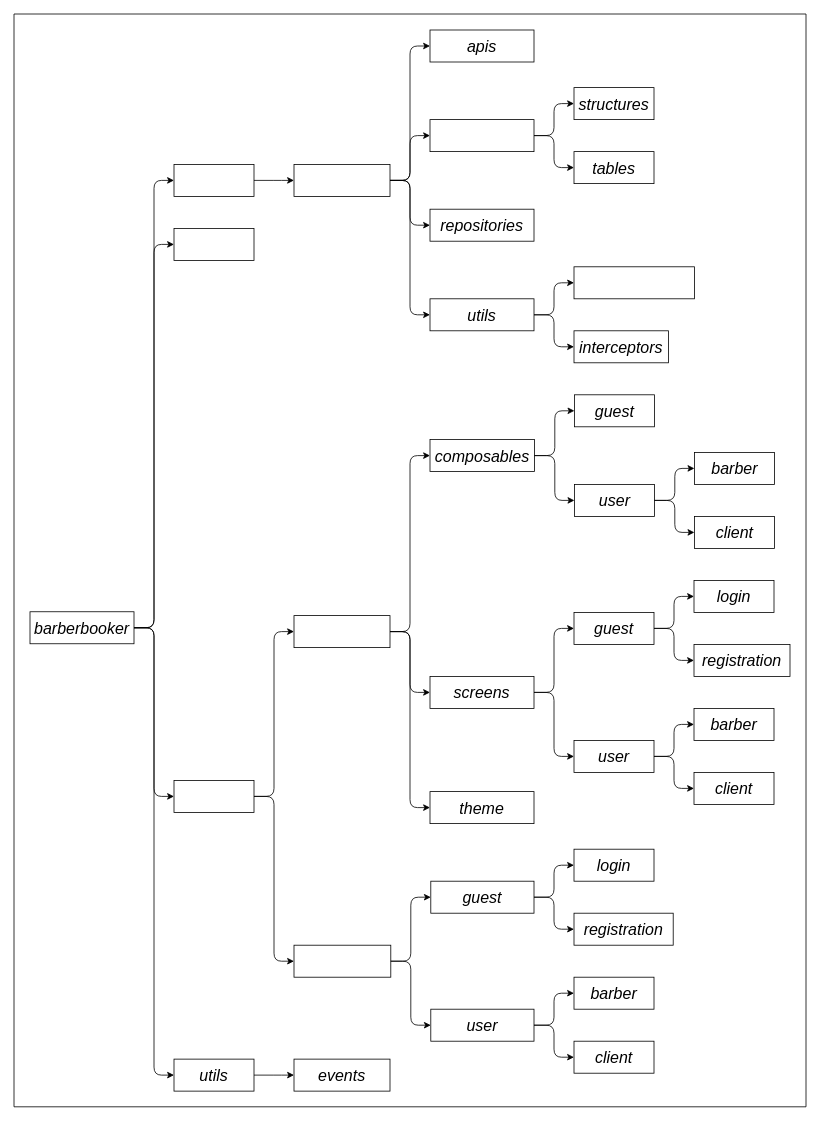
The diagram is 820 pixels wide and 1121 high, and some of its shapes have lost their labels. Here are the shapes that lost their labels. From the top down, the centre of each, then its label:
pixel 481 135: entities
pixel 213 180: data
pixel 341 180: retrofit
pixel 213 244: hilt
pixel 633 282: authenticators
pixel 341 631: elements
pixel 213 796: ui
pixel 342 960: stateholders
